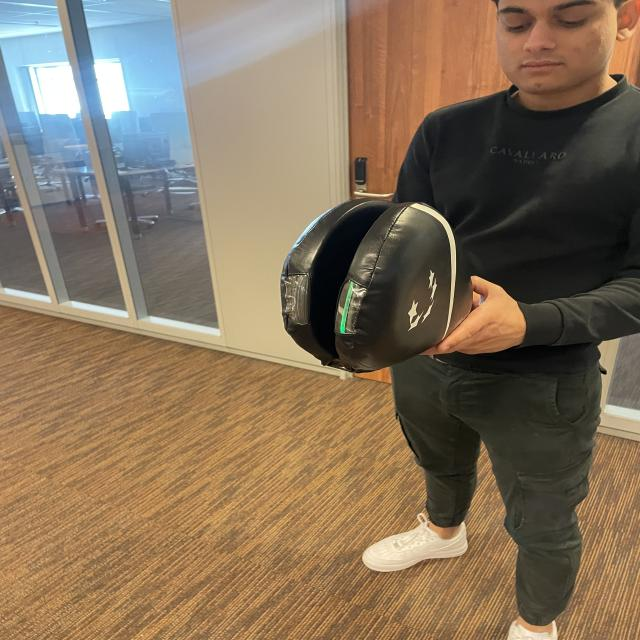paddle: (282, 198, 468, 368)
trigger: (338, 278, 359, 336)
